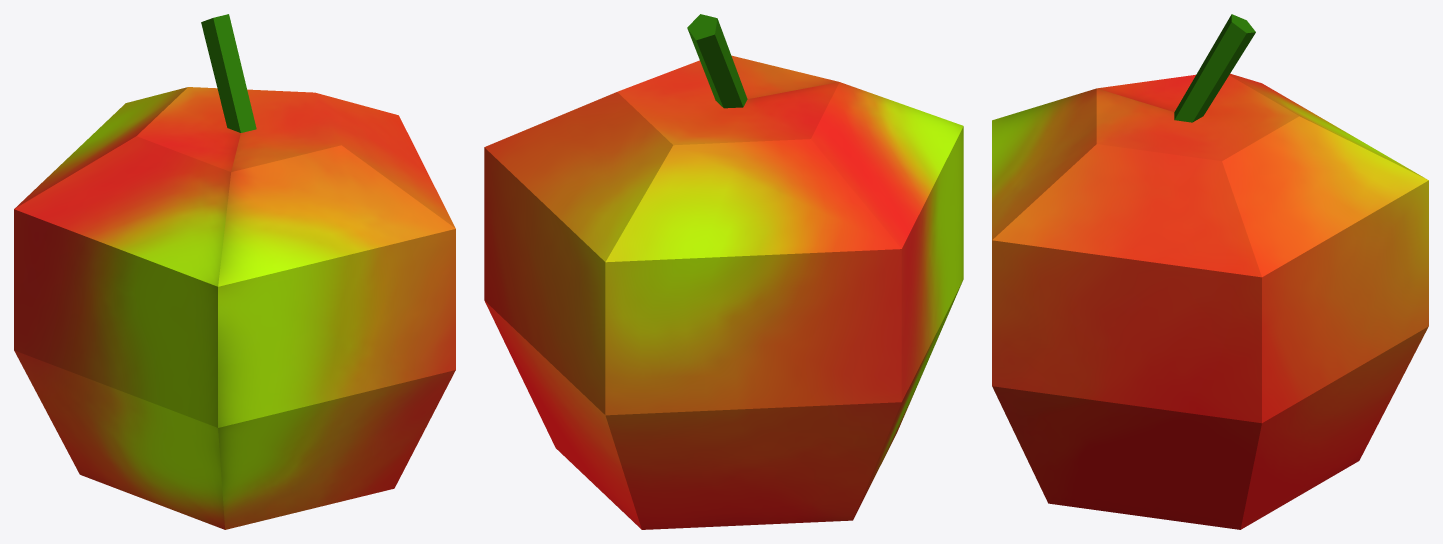
The model's file is apple.fbx.
The picture shows the model from 3 angles, left to right: view 1: azimuth 30°, elevation 25°; view 2: azimuth 150°, elevation 25°; view 3: azimuth 270°, elevation 25°; orthographic projection. The views are drawn at different scales.
Visible parts, largest first — view 1: apple; view 2: apple; view 3: apple.
Boxes of the visible parts, x1,y1,x2,y2 form: apple: (14,14,455,529); apple: (484,14,963,529); apple: (992,14,1428,529).
Size of the model in its own units: 412 by 438 by 392.
